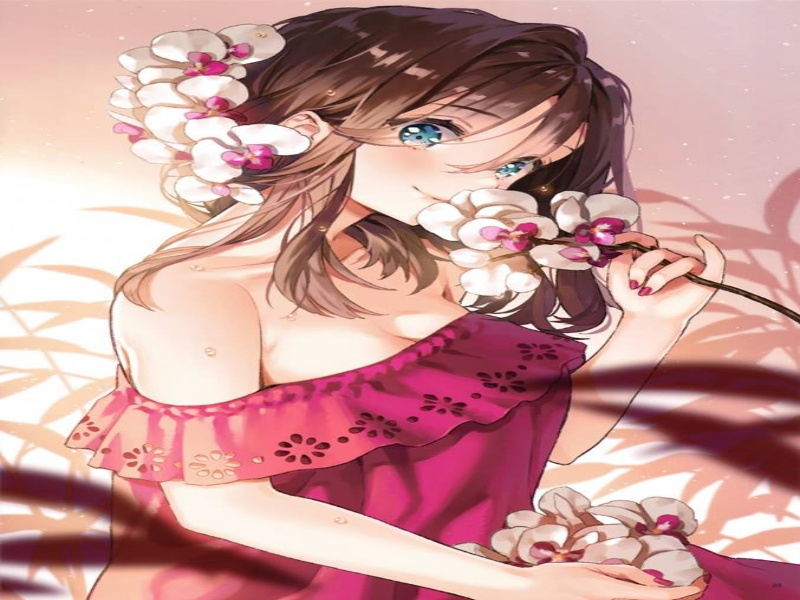flower: (567, 216, 630, 262), (476, 222, 546, 253), (528, 533, 586, 566), (180, 44, 235, 78), (182, 94, 235, 128), (221, 142, 274, 172), (635, 513, 683, 546), (109, 120, 156, 146), (220, 40, 255, 66)
